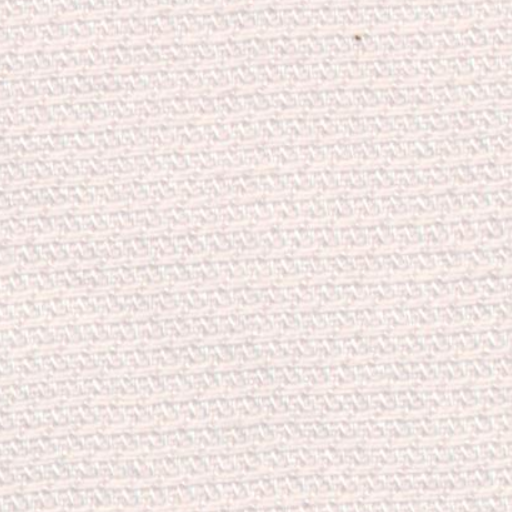WuZi: (337, 18, 376, 62)
